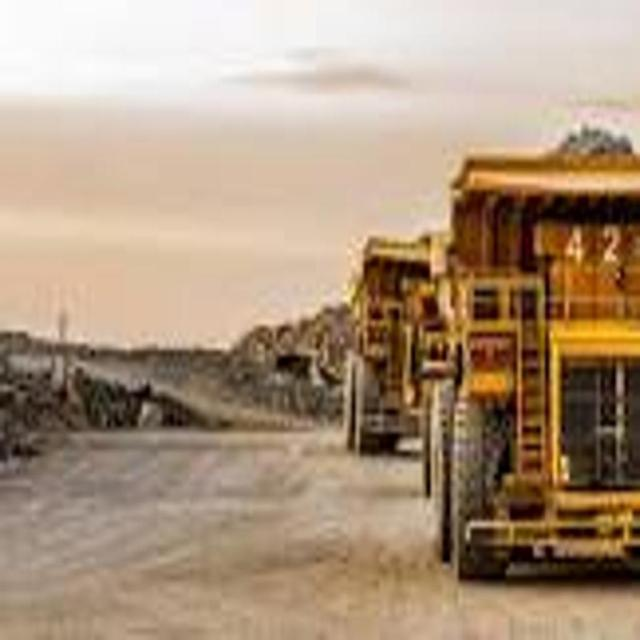dump_truck: (431, 107, 640, 640), (342, 193, 437, 457)
